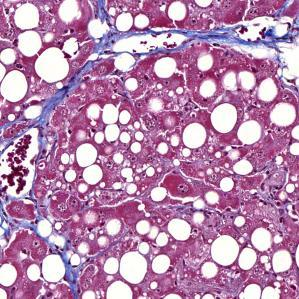fibrosis: (161, 14, 267, 53), (46, 60, 100, 116)
